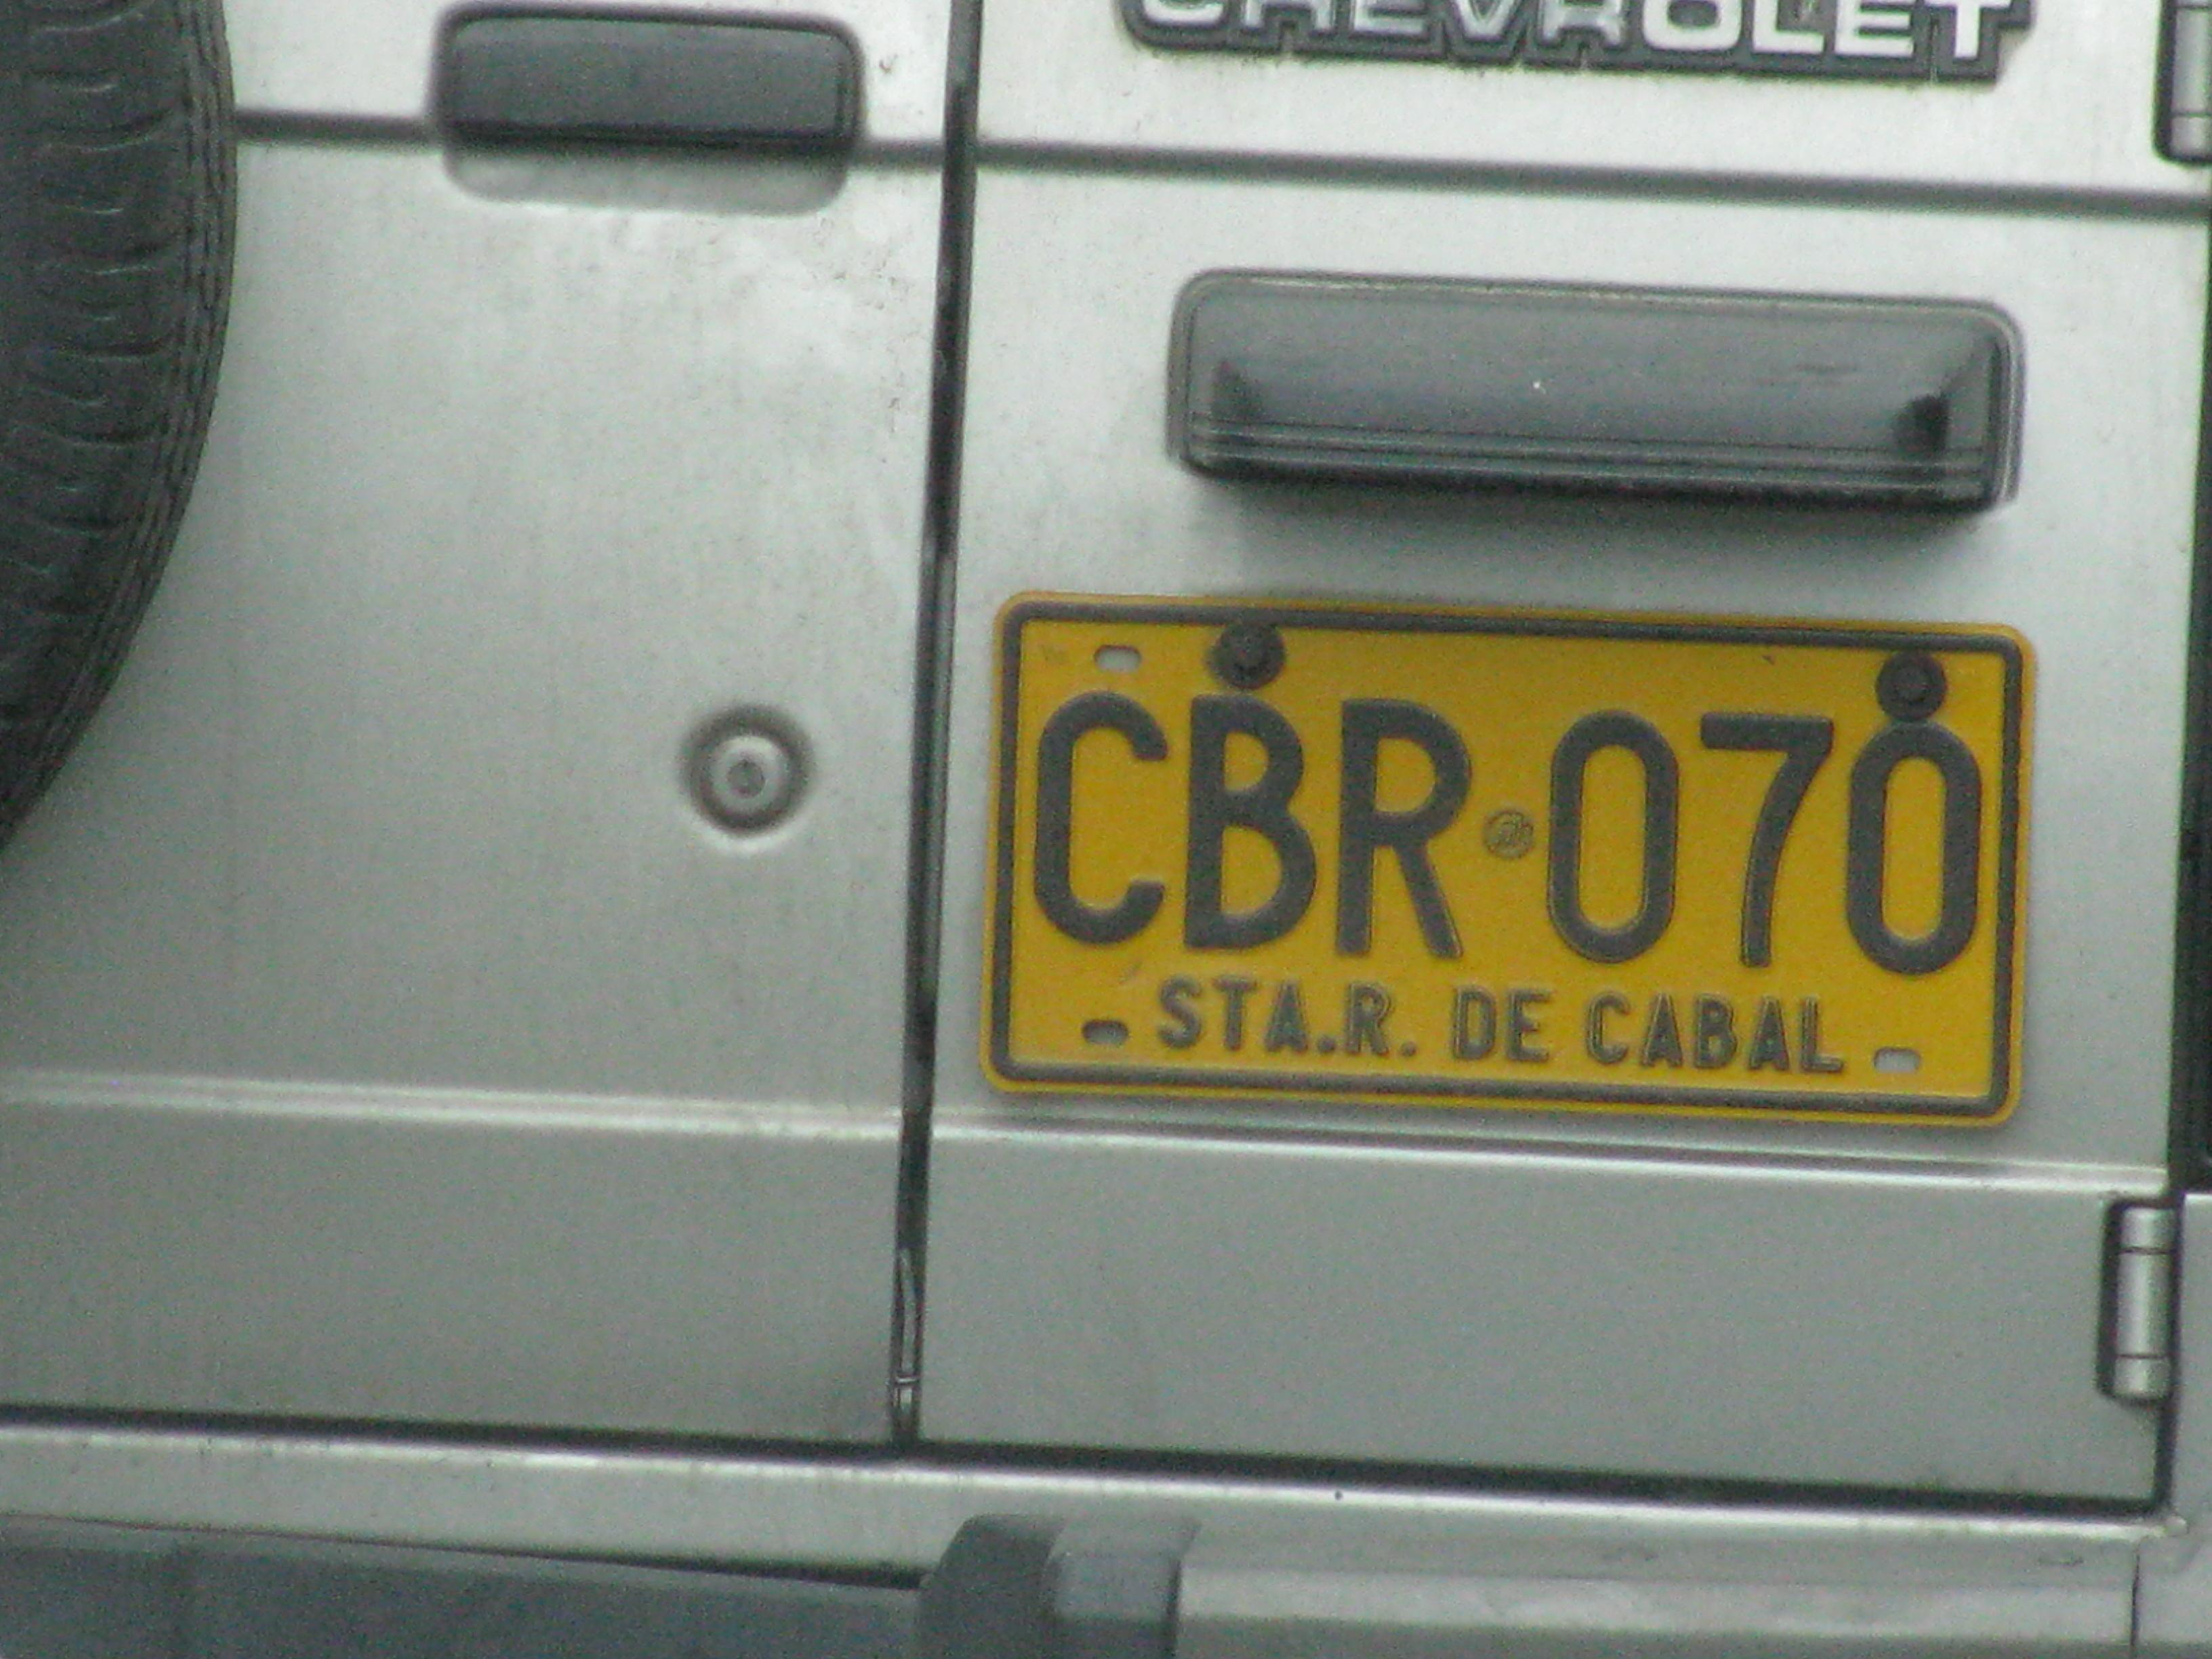placas: (975, 575, 2044, 1140)
